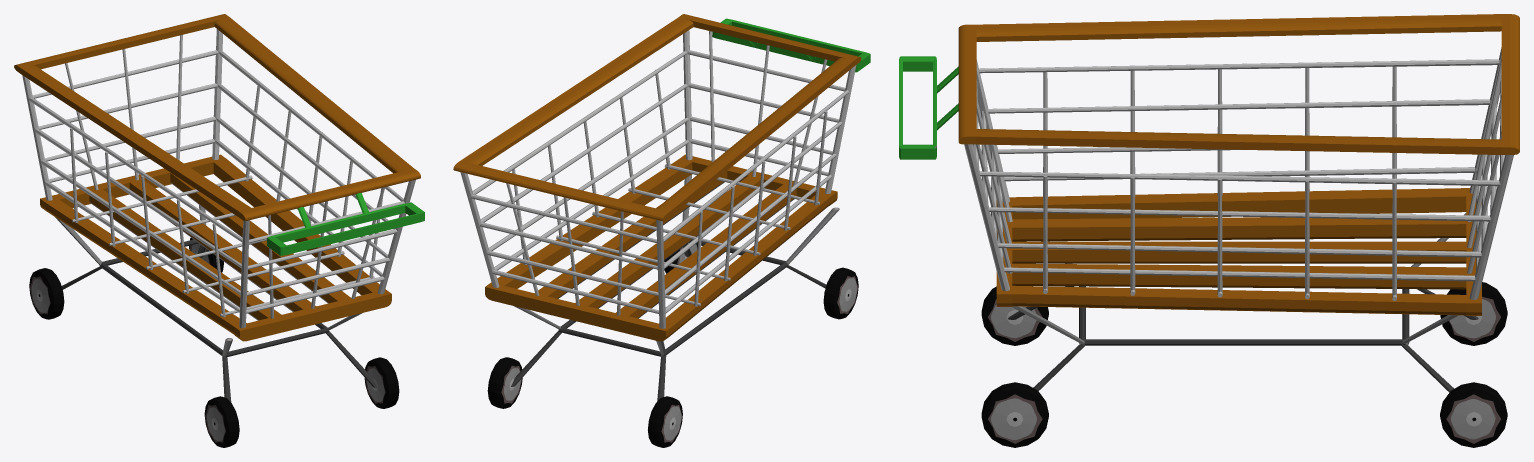
File: Cart.fbx
3 renders of one model, left to right at view 1: azimuth 30°, elevation 25°; view 2: azimuth 150°, elevation 25°; view 3: azimuth 270°, elevation 25°, orthographic. The views are drawn at different scales.
Parts seen in each view (by area): view 1: Cart; view 2: Cart; view 3: Cart.
Boxes of the visible parts, x1=… form: Cart: x1=14, y1=14, x2=424, y2=447; Cart: x1=453, y1=14, x2=870, y2=447; Cart: x1=899, y1=14, x2=1519, y2=447.
Bounding box in the file's own units: 90.4 × 101 × 178.
